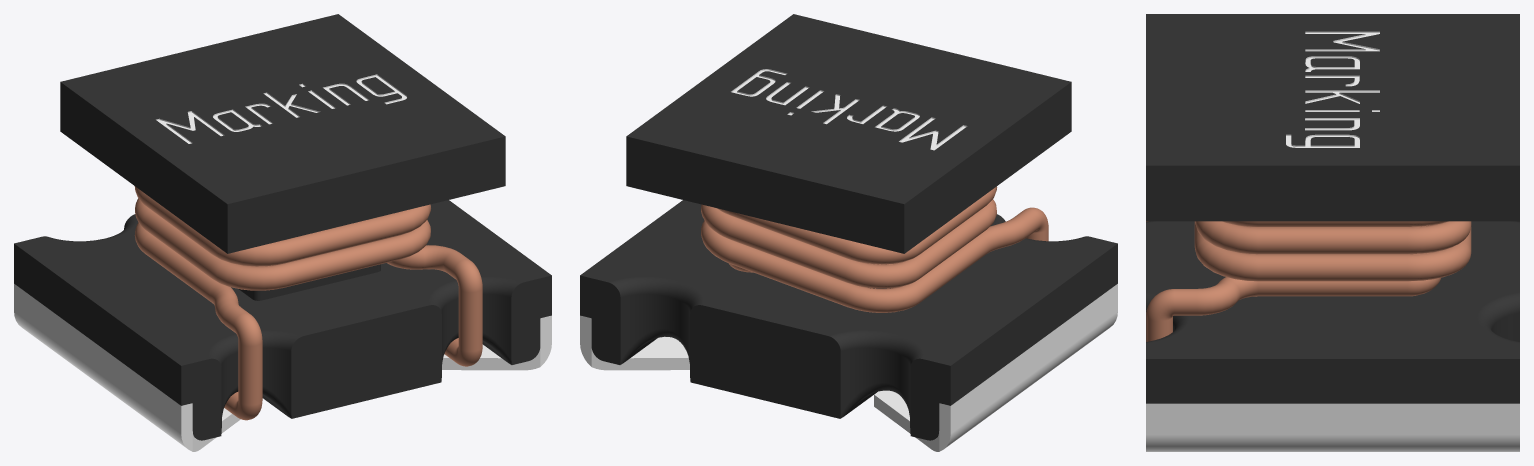
Rendered from WE-LQ SMT Inductor.gltf.
3 views of the same model, side by side, from view 1: azimuth 30°, elevation 25°; view 2: azimuth 150°, elevation 25°; view 3: azimuth 270°, elevation 25° (orthographic). The views are drawn at different scales.
Parts seen in each view (by area): view 1: Kern001, Kern, Pin_001, Pin_; view 2: Kern001, Kern, Pin_001, Pin_; view 3: Kern001, Kern, Pin_.
Boxes of the visible parts, x1=… form: Kern001: x1=14, y1=14, x2=551, y2=440; Kern: x1=134, y1=186, x2=482, y2=420; Pin_001: x1=14, y1=284, x2=240, y2=451; Pin_: x1=442, y1=315, x2=551, y2=370; Kern001: x1=580, y1=14, x2=1117, y2=440; Kern: x1=701, y1=186, x2=1048, y2=312; Pin_001: x1=874, y1=284, x2=1117, y2=451; Pin_: x1=580, y1=315, x2=689, y2=370; Kern001: x1=1146, y1=14, x2=1519, y2=403; Kern: x1=1146, y1=221, x2=1471, y2=341; Pin_: x1=1146, y1=403, x2=1519, y2=451.
Bounding box in the file's own units: 0.0032 × 0.002 × 0.0025.
